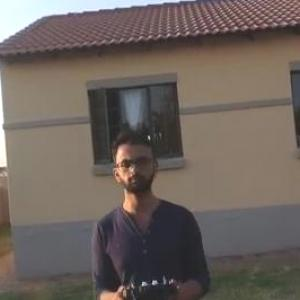follow: (80, 123, 211, 299)
